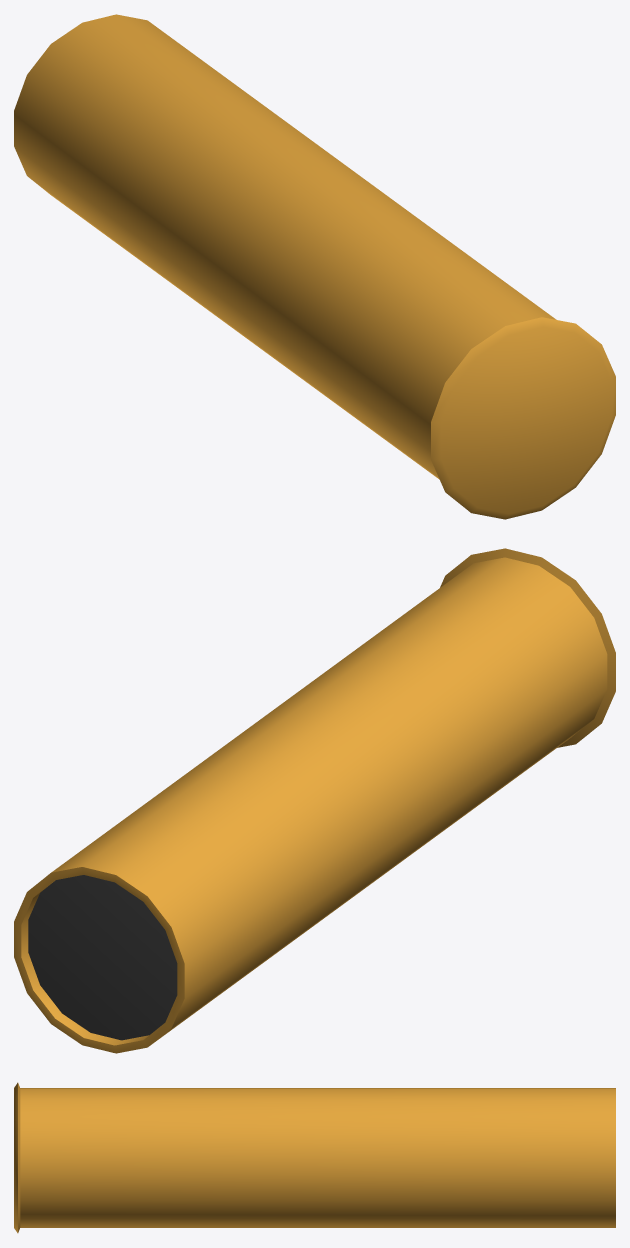
Rendered from soviet_122.fbx.
3 views of the same model, one above another, from view 1: azimuth 30°, elevation 25°; view 2: azimuth 150°, elevation 25°; view 3: azimuth 270°, elevation 25° (orthographic). The views are drawn at different scales.
Visible parts, largest first — view 1: Case.001; view 2: Case.001; view 3: Case.001.
Part boxes in pixels (bbox=[...]): Case.001: bbox=[14, 14, 615, 519]; Case.001: bbox=[14, 548, 615, 1053]; Case.001: bbox=[14, 1082, 615, 1233].
Size of the model in its own units: 99.46 by 99.46 by 398.
